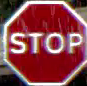Stop: (3, 2, 86, 85)
